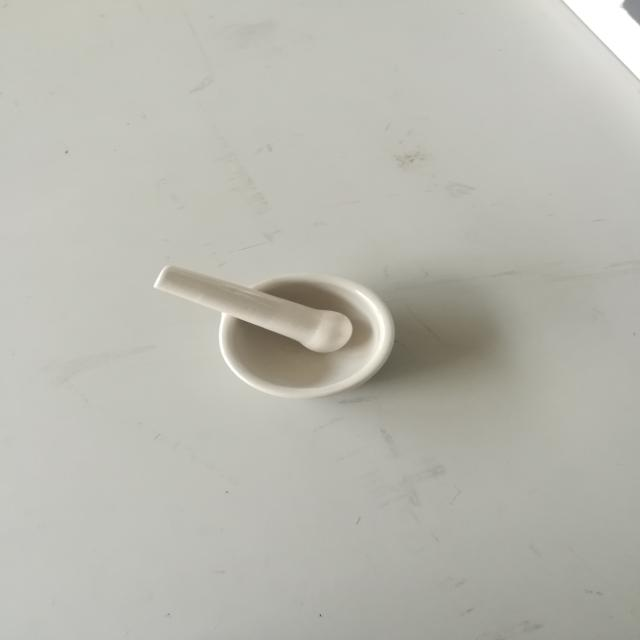Porcelain_Mortar Pestle: (129, 228, 437, 434)
